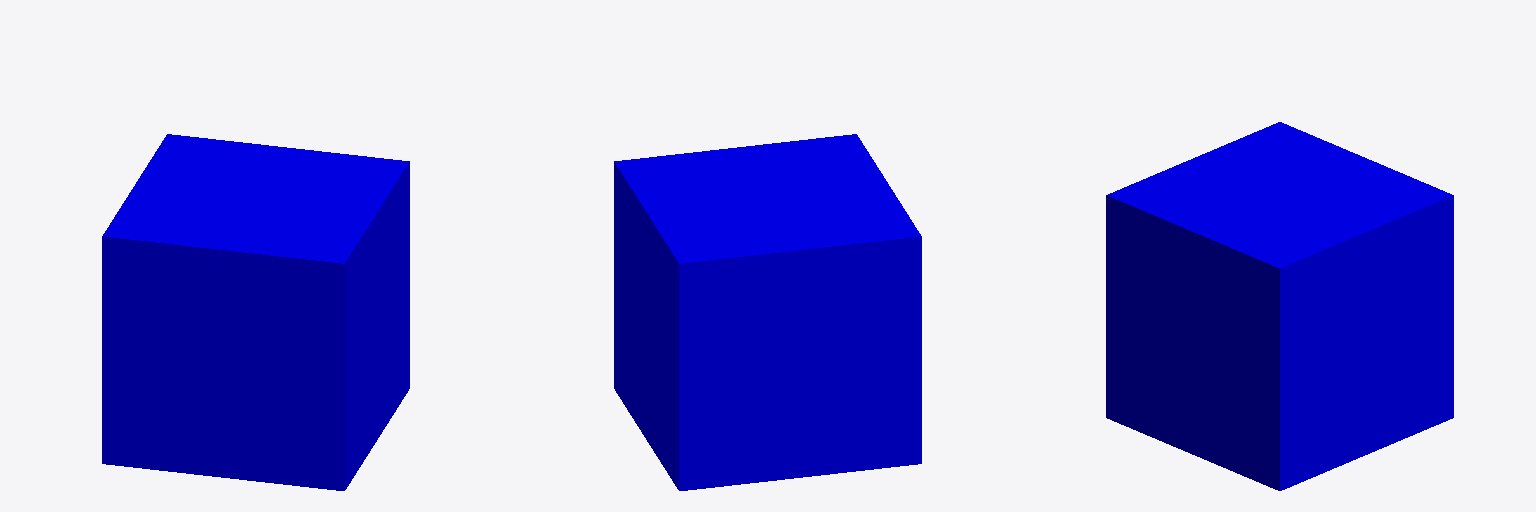
URDF robot description (panda):
<?xml version="1.0" ?>
<!-- =================================================================================== -->
<!-- |    This document was autogenerated by xacro from [local-path]/RosEnvs/urdf_generator_ws/src/franka_description/robots/panda/panda.urdf.xacro | -->
<!-- |    EDITING THIS FILE BY HAND IS NOT RECOMMENDED                                 | -->
<!-- =================================================================================== -->
<robot name="panda">
  <!-- arm {{ -->
  <link name="panda_link0">
    <visual>
      <geometry>
        <mesh filename="link0.dae"/>
      </geometry>
    </visual>
    <collision>
      <geometry>
        <mesh filename="link0.obj"/>
      </geometry>
    </collision>
    <inertial>
      <origin rpy="0 0 0" xyz="0 0 0"/>
      <mass value="3.06"/>
      <inertia ixx="0.3" ixy="0.0" ixz="0.0" iyy="0.3" iyz="0.0" izz="0.3"/>
    </inertial>
  </link>
  <link name="panda_link1">
    <visual>
      <geometry>
        <mesh filename="link1.dae"/>
      </geometry>
    </visual>
    <collision>
      <geometry>
        <mesh filename="link1.obj"/>
      </geometry>
    </collision>
    <inertial>
      <origin rpy="0 0 0" xyz="0 0 0"/>
      <mass value="2.34"/>
      <inertia ixx="0.3" ixy="0.0" ixz="0.0" iyy="0.3" iyz="0.0" izz="0.3"/>
    </inertial>
  </link>
  <joint name="panda_joint1" type="revolute">
    <origin rpy="0 0 0" xyz="0 0 0.333"/>
    <parent link="panda_link0"/>
    <child link="panda_link1"/>
    <axis xyz="0 0 1"/>
    <limit effort="87" lower="-2.8973" upper="2.8973" velocity="2.1750"/>
  </joint>
  <link name="panda_link2">
    <visual>
      <geometry>
        <mesh filename="link2.dae"/>
      </geometry>
    </visual>
    <collision>
      <geometry>
        <mesh filename="link2.obj"/>
      </geometry>
    </collision>
    <inertial>
      <origin rpy="0 0 0" xyz="0 0 0"/>
      <mass value="2.36"/>
      <inertia ixx="0.3" ixy="0.0" ixz="0.0" iyy="0.3" iyz="0.0" izz="0.3"/>
    </inertial>
  </link>
  <joint name="panda_joint2" type="revolute">
    <origin rpy="-1.5707963267948966 0 0" xyz="0 0 0"/>
    <parent link="panda_link1"/>
    <child link="panda_link2"/>
    <axis xyz="0 0 1"/>
    <limit effort="87" lower="-1.7628" upper="1.7628" velocity="2.1750"/>
  </joint>
  <link name="panda_link3">
    <visual>
      <geometry>
        <mesh filename="link3.dae"/>
      </geometry>
    </visual>
    <collision>
      <geometry>
        <mesh filename="link3.obj"/>
      </geometry>
    </collision>
    <inertial>
      <origin rpy="0 0 0" xyz="0 0 0"/>
      <mass value="2.38"/>
      <inertia ixx="0.3" ixy="0.0" ixz="0.0" iyy="0.3" iyz="0.0" izz="0.3"/>
    </inertial>
  </link>
  <joint name="panda_joint3" type="revolute">
    <origin rpy="1.5707963267948966 0 0" xyz="0 -0.316 0"/>
    <parent link="panda_link2"/>
    <child link="panda_link3"/>
    <axis xyz="0 0 1"/>
    <limit effort="87" lower="-2.8973" upper="2.8973" velocity="2.1750"/>
  </joint>
  <link name="panda_link4">
    <visual>
      <geometry>
        <mesh filename="link4.dae"/>
      </geometry>
    </visual>
    <collision>
      <geometry>
        <mesh filename="link4.obj"/>
      </geometry>
    </collision>
    <inertial>
      <origin rpy="0 0 0" xyz="0 0 0"/>
      <mass value="2.43"/>
      <inertia ixx="0.3" ixy="0.0" ixz="0.0" iyy="0.3" iyz="0.0" izz="0.3"/>
    </inertial>
  </link>
  <joint name="panda_joint4" type="revolute">
    <origin rpy="1.5707963267948966 0 0" xyz="0.0825 0 0"/>
    <parent link="panda_link3"/>
    <child link="panda_link4"/>
    <axis xyz="0 0 1"/>
    <limit effort="87" lower="0.0" upper="3.002" velocity="2.1750"/>
  </joint>
  <link name="panda_link5">
    <visual>
      <geometry>
        <mesh filename="link5.dae"/>
      </geometry>
    </visual>
    <collision>
      <geometry>
        <mesh filename="link5.obj"/>
      </geometry>
    </collision>
    <inertial>
      <origin rpy="0 0 0" xyz="0 0 0"/>
      <mass value="3.5"/>
      <inertia ixx="0.3" ixy="0.0" ixz="0.0" iyy="0.3" iyz="0.0" izz="0.3"/>
    </inertial>
  </link>
  <joint name="panda_joint5" type="revolute">
    <origin rpy="-1.5707963267948966 0 0" xyz="-0.0825 0.384 0"/>
    <parent link="panda_link4"/>
    <child link="panda_link5"/>
    <axis xyz="0 0 1"/>
    <limit effort="12" lower="-2.8973" upper="2.8973" velocity="2.6100"/>
  </joint>
  <link name="panda_link6">
    <visual>
      <geometry>
        <mesh filename="link6.dae"/>
      </geometry>
    </visual>
    <collision>
      <geometry>
        <mesh filename="link6.obj"/>
      </geometry>
    </collision>
    <inertial>
      <origin rpy="0 0 0" xyz="0 0 0"/>
      <mass value="1.47"/>
      <inertia ixx="0.3" ixy="0.0" ixz="0.0" iyy="0.3" iyz="0.0" izz="0.3"/>
    </inertial>
  </link>
  <joint name="panda_joint6" type="revolute">
    <origin rpy="1.5707963267948966 0 0" xyz="0 0 0"/>
    <parent link="panda_link5"/>
    <child link="panda_link6"/>
    <axis xyz="0 0 1"/>
    <limit effort="12" lower="-0.0175" upper="3.7525" velocity="2.6100"/>
  </joint>
  <link name="panda_link7">
    <visual>
      <geometry>
        <mesh filename="link7.dae"/>
      </geometry>
    </visual>
    <collision>
      <geometry>
        <mesh filename="link7.obj"/>
      </geometry>
    </collision>
    <inertial>
      <origin rpy="0 0 0" xyz="0 0 0"/>
      <mass value="0.45"/>
      <inertia ixx="0.3" ixy="0.0" ixz="0.0" iyy="0.3" iyz="0.0" izz="0.3"/>
    </inertial>
  </link>
  <joint name="panda_joint7" type="revolute">
    <origin rpy="1.5707963267948966 0 0" xyz="0.088 0 0"/>
    <parent link="panda_link6"/>
    <child link="panda_link7"/>
    <axis xyz="0 0 1"/>
    <limit effort="12" lower="-2.8973" upper="2.8973" velocity="2.6100"/>
  </joint>
  <link name="panda_link8">
   <inertial>
      <origin rpy="0 0 0" xyz="0 0 0"/>
      <mass value="0.0"/>
      <inertia ixx="0.3" ixy="0.0" ixz="0.0" iyy="0.3" iyz="0.0" izz="0.3"/>
    </inertial>
  </link>
  <joint name="panda_joint8" type="fixed">
    <origin rpy="0 0 0" xyz="0 0 0.107"/>
    <parent link="panda_link7"/>
    <child link="panda_link8"/>
    <axis xyz="0 0 0"/>
  </joint> 
  <joint name="panda_hand_joint" type="fixed">
    <parent link="panda_link8"/>
    <child link="panda_hand"/>
    <origin rpy="0 0 -0.7853981633974483" xyz="0 0 0"/>
  </joint>
  <link name="panda_hand">
    <visual>
      <geometry>
        <mesh filename="hand.dae"/>
      </geometry>
    </visual>
    <collision>
      <geometry>
        <mesh filename="hand.stl"/>
      </geometry>
    </collision>
  </link>
 <link name="panda_hand_sc">
    <visual>
    <geometry>
      <sphere radius="0.0"/> <!-- Minimal visual definition -->
    </geometry>
    </visual>
    <collision>
      <origin rpy="1.5707963267948966 0 0" xyz="0 0 0.04"/>
      <geometry>
        <cylinder length="0.1" radius="0.07"/>
      </geometry>
    </collision>
    <collision>
      <origin xyz="0 0.05 0.04"/>
      <geometry>
        <sphere radius="0.07"/>
      </geometry>
    </collision>
    <collision>
      <origin xyz="0 -0.05 0.04"/>
      <geometry>
        <sphere radius="0.07"/>
      </geometry>
    </collision>
    <collision>
      <origin rpy="1.5707963267948966 0 0" xyz="0 0 0.1"/>
      <geometry>
        <cylinder length="0.1" radius="0.05"/>
      </geometry>
    </collision>
    <collision>
      <origin xyz="0 0.05 0.1"/>
      <geometry>
        <sphere radius="0.05"/>
      </geometry>
    </collision>
    <collision>
      <origin xyz="0 -0.05 0.1"/>
      <geometry>
        <sphere radius="0.05"/>
      </geometry>
    </collision>
  </link>
  <joint name="panda_hand_sc_joint" type="fixed">
    <origin rpy="0 0 0"/>
    <parent link="panda_hand"/>
    <child link="panda_hand_sc"/>
  </joint>
 <link name="panda_hand_tcp"/>
  <joint name="panda_hand_tcp_joint" type="fixed">
    <origin rpy="0 0 0" xyz="0 0 0.1034"/>
    <parent link="panda_hand"/>
    <child link="panda_hand_tcp"/>
  </joint>
  <link name="panda_leftfinger">
    <visual>
      <geometry>
        <mesh filename="finger.dae"/>
      </geometry>
    </visual>
    <collision>
      <origin rpy="0 0 0" xyz="0 18.5e-3 11e-3"/>
      <geometry>
        <box size="22e-3 15e-3 20e-3"/>
      </geometry>
    </collision>
    <collision>
      <origin rpy="0 0 0" xyz="0 6.8e-3 2.2e-3"/>
      <geometry>
        <box size="22e-3 8.8e-3 3.8e-3"/>
      </geometry>
    </collision>
    <collision>
      <origin rpy="0.5235987755982988 0 0" xyz="0 15.9e-3 28.35e-3"/>
      <geometry>
        <box size="17.5e-3 7e-3 23.5e-3"/>
      </geometry>
    </collision>
    <collision>
      <origin rpy="0 0 0" xyz="0 7.58e-3 45.25e-3"/>
      <geometry>
        <box size="17.5e-3 15.2e-3 18.5e-3"/>
      </geometry>
    </collision>
  </link>
  <link name="panda_rightfinger">
    <visual>
      <origin rpy="0 0 3.141592653589793" xyz="0 0 0"/>
      <geometry>
        <mesh filename="finger.dae"/>
      </geometry>
    </visual>
    <collision>
      <origin rpy="0 0 0" xyz="0 -18.5e-3 11e-3"/>
      <geometry>
        <box size="22e-3 15e-3 20e-3"/>
      </geometry>
    </collision>
    <collision>
      <origin rpy="0 0 0" xyz="0 -6.8e-3 2.2e-3"/>
      <geometry>
        <box size="22e-3 8.8e-3 3.8e-3"/>
      </geometry>
    </collision>
    <collision>
      <origin rpy="-0.5235987755982988 0 0" xyz="0 -15.9e-3 28.35e-3"/>
      <geometry>
        <box size="17.5e-3 7e-3 23.5e-3"/>
      </geometry>
    </collision>
    <collision>
      <origin rpy="0 0 0" xyz="0 -7.58e-3 45.25e-3"/>
      <geometry>
        <box size="17.5e-3 15.2e-3 18.5e-3"/>
      </geometry>
    </collision>
  </link>
  <joint name="panda_finger_joint1" type="fixed">
    <parent link="panda_hand"/>
    <child link="panda_leftfinger"/>
    <origin rpy="0 0 0" xyz="0 0.05 0.0584"/>
    <axis xyz="0 1 0"/>
    <limit effort="100" lower="0.0" upper="0.04" velocity="0.2"/>
  </joint>
  <joint name="panda_finger_joint2" type="fixed">
    <parent link="panda_hand"/>
    <child link="panda_rightfinger"/>
    <origin rpy="0 0 0" xyz="0 -0.05 0.0584"/>
    <axis xyz="0 -1 0"/>
    <limit effort="100" lower="0.0" upper="0.04" velocity="0.2"/>
  </joint> 
  <link name="panda_finger_cube">
    <visual>
        <origin xyz="0 0 0" rpy="0 0 0"/>
        <geometry>
            <box size="0.1 0.1 0.1"/>  <!-- Cube is 0.1 meters on each side -->
        </geometry>
        <material name="blue">
            <color rgba="0 0 1 1"/>  <!-- RGBA values for blue, where A (alpha) is opacity (1 is fully opaque) -->
        </material>
    </visual>
    <collision>
        <origin xyz="0 0 0" rpy="0 0 0"/>
        <geometry>
            <box size="0.1 0.1 0.1"/>
        </geometry>
    </collision>
  </link>
  <joint name="panda_finger_cube_joint" type="fixed">
      <parent link="panda_leftfinger"/>
      <child link="panda_finger_cube"/>
      <origin xyz="0.0 -0.05 0.07" rpy="0 0 0"/>  <!-- Adjust XYZ to position the cube correctly -->
  </joint>
</robot>

--- Facts derived from the render (not from the file) ---
The picture shows the robot from 3 angles, left to right: view 1: azimuth 30°, elevation 25°; view 2: azimuth 150°, elevation 25°; view 3: azimuth 270°, elevation 25°; orthographic projection.
Model panda with 15 links and 14 joints (7 revolute, 7 fixed), rooted at panda_link0, posed all joints at 0.
Visible links, largest first — view 1: panda_finger_cube; view 2: panda_finger_cube; view 3: panda_finger_cube.
Link boxes in pixels (x1,y1,x2,y2): panda_finger_cube: (102,134,409,490); panda_finger_cube: (614,134,921,490); panda_finger_cube: (1106,122,1453,490).
Size in the robot's own frame: 0.1414 by 0.1414 by 0.1784 metres.
Meshes: 10 distinct files referenced, 0 mesh visuals loaded (none loaded); not drawn: 11 (reference not matched to a file when rendering).